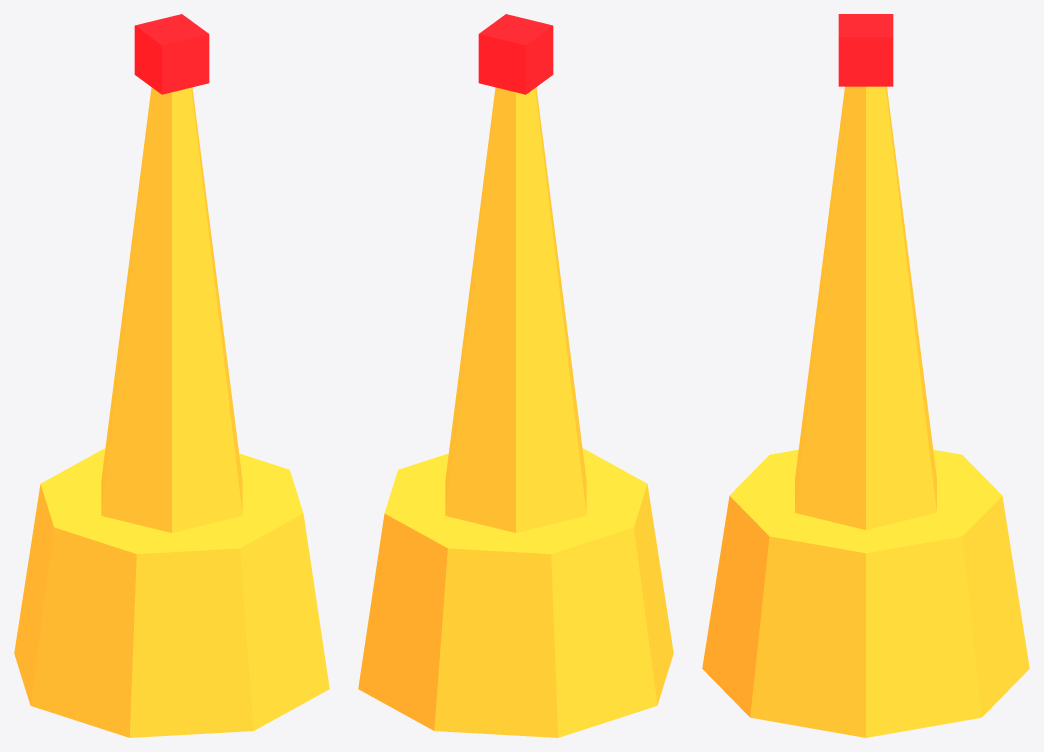
Rendered from prop_buoy.glb.
3 views of the same model, side by side, from view 1: azimuth 30°, elevation 25°; view 2: azimuth 150°, elevation 25°; view 3: azimuth 270°, elevation 25° (orthographic).
Visible parts, largest first — view 1: prop_buoy__mesh; view 2: prop_buoy__mesh; view 3: prop_buoy__mesh.
Boxes of the visible parts, x1=… form: prop_buoy__mesh: x1=14, y1=14, x2=329, y2=737; prop_buoy__mesh: x1=358, y1=14, x2=673, y2=737; prop_buoy__mesh: x1=702, y1=14, x2=1029, y2=737.
Size of the model in its own units: 1.2 by 2.6 by 1.2.
